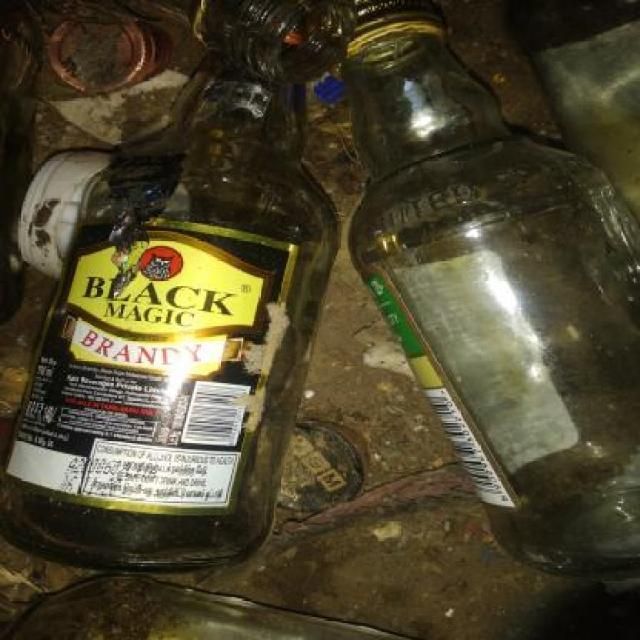garbage: (19, 15, 639, 640)
